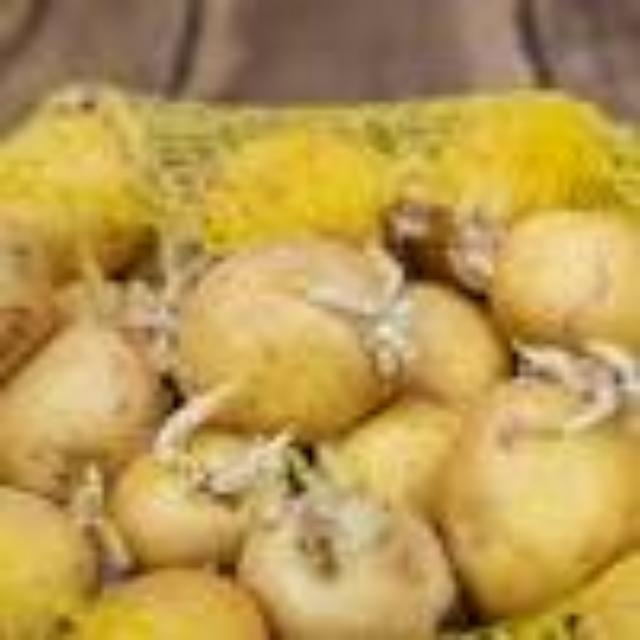Sprouted potato: (159, 220, 423, 456), (436, 329, 640, 616), (60, 384, 318, 572), (4, 263, 190, 513), (229, 450, 469, 640), (301, 237, 545, 423), (436, 182, 640, 372)
